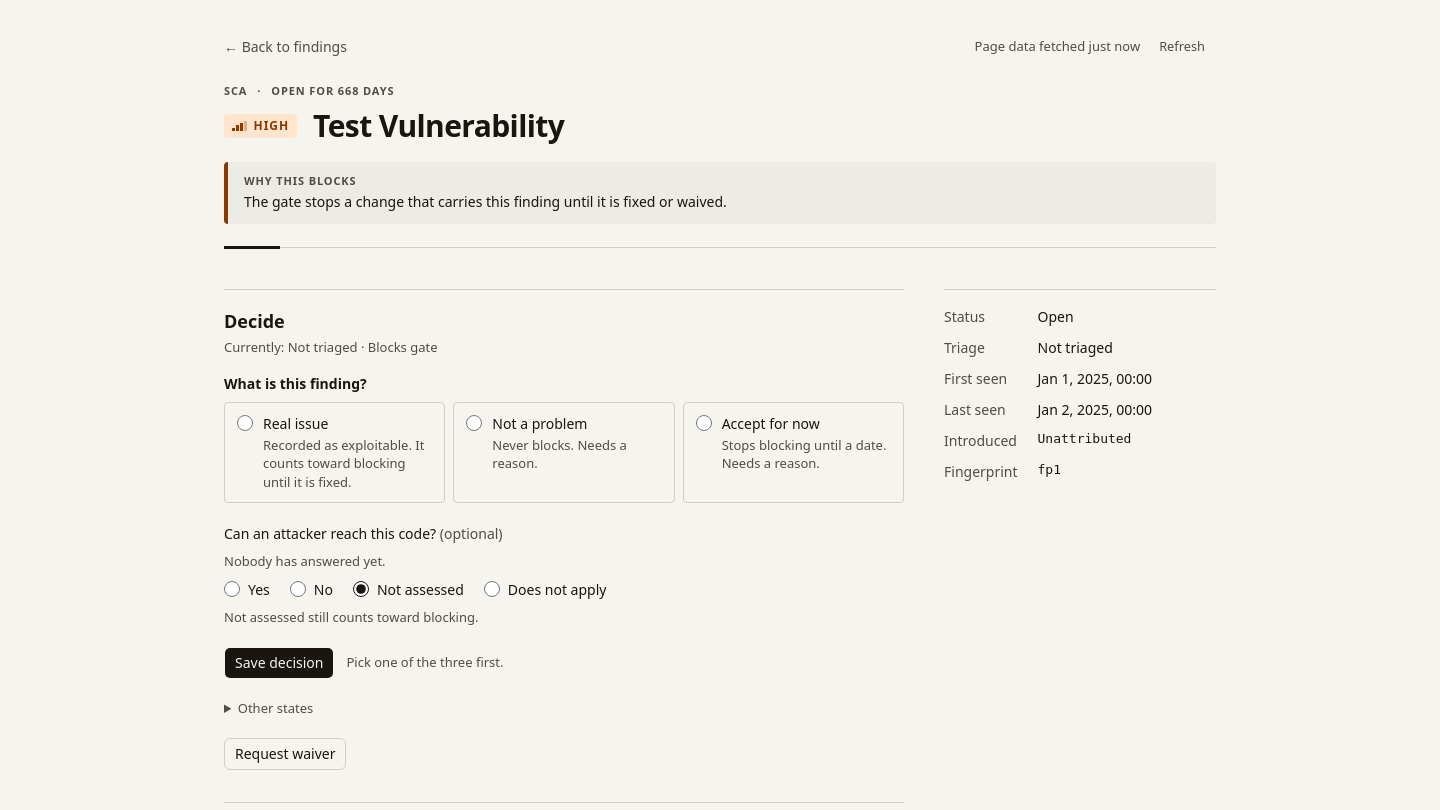
Test: FindingDetail optimistic triage › goes back to the real state, and the old verdict, with an error toast when the server refuses
Check: the heading "Test Vulnerability" is shown, box x1=313 y1=109 x2=564 y2=142
Check: the heading "Why this blocks" is shown, box x1=244 y1=173 x2=356 y2=188
Click the radio button labelled "Real issue" at (245, 423), box x1=237 y1=415 x2=253 y2=431
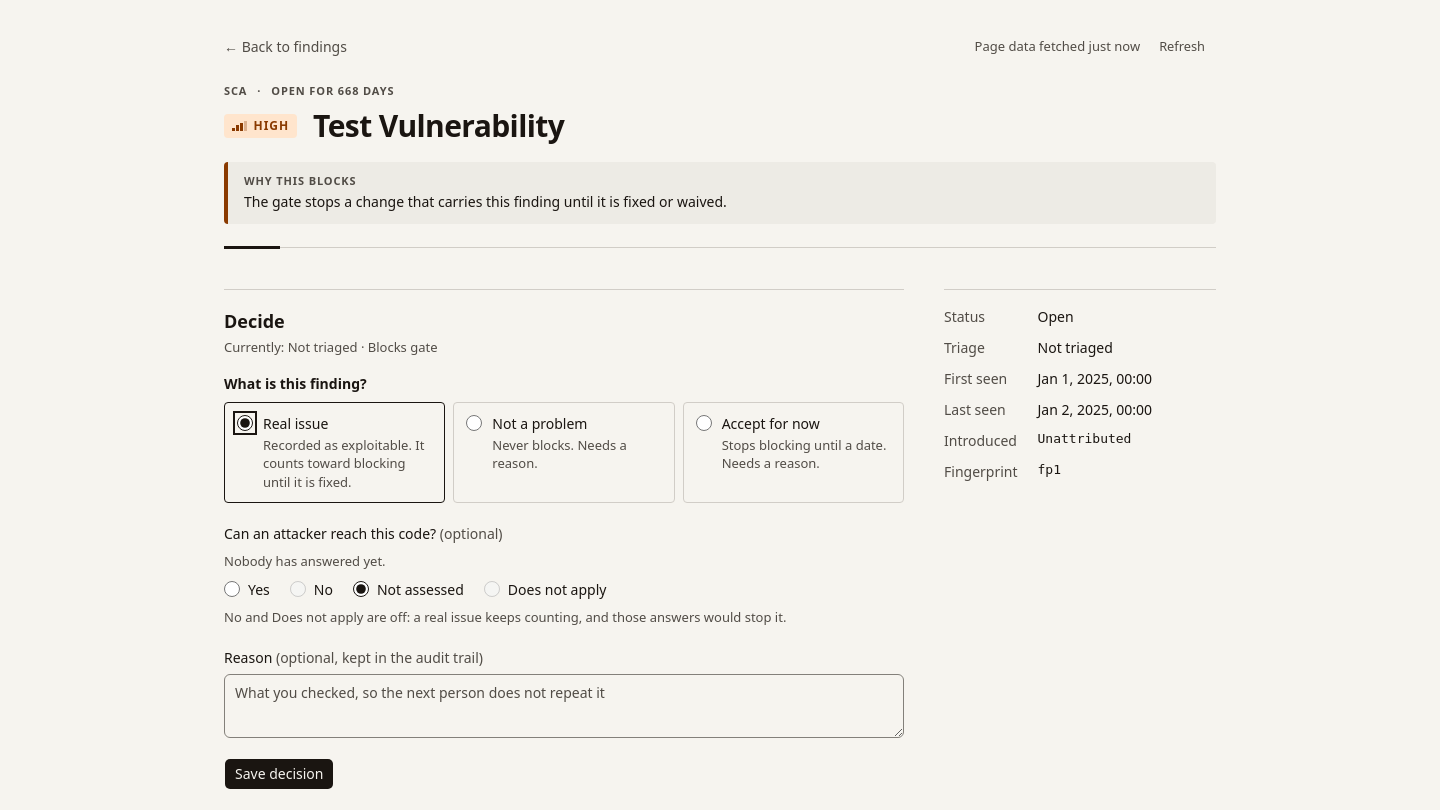
Click the button "Save decision" at (279, 774), box x1=224 y1=758 x2=334 y2=790
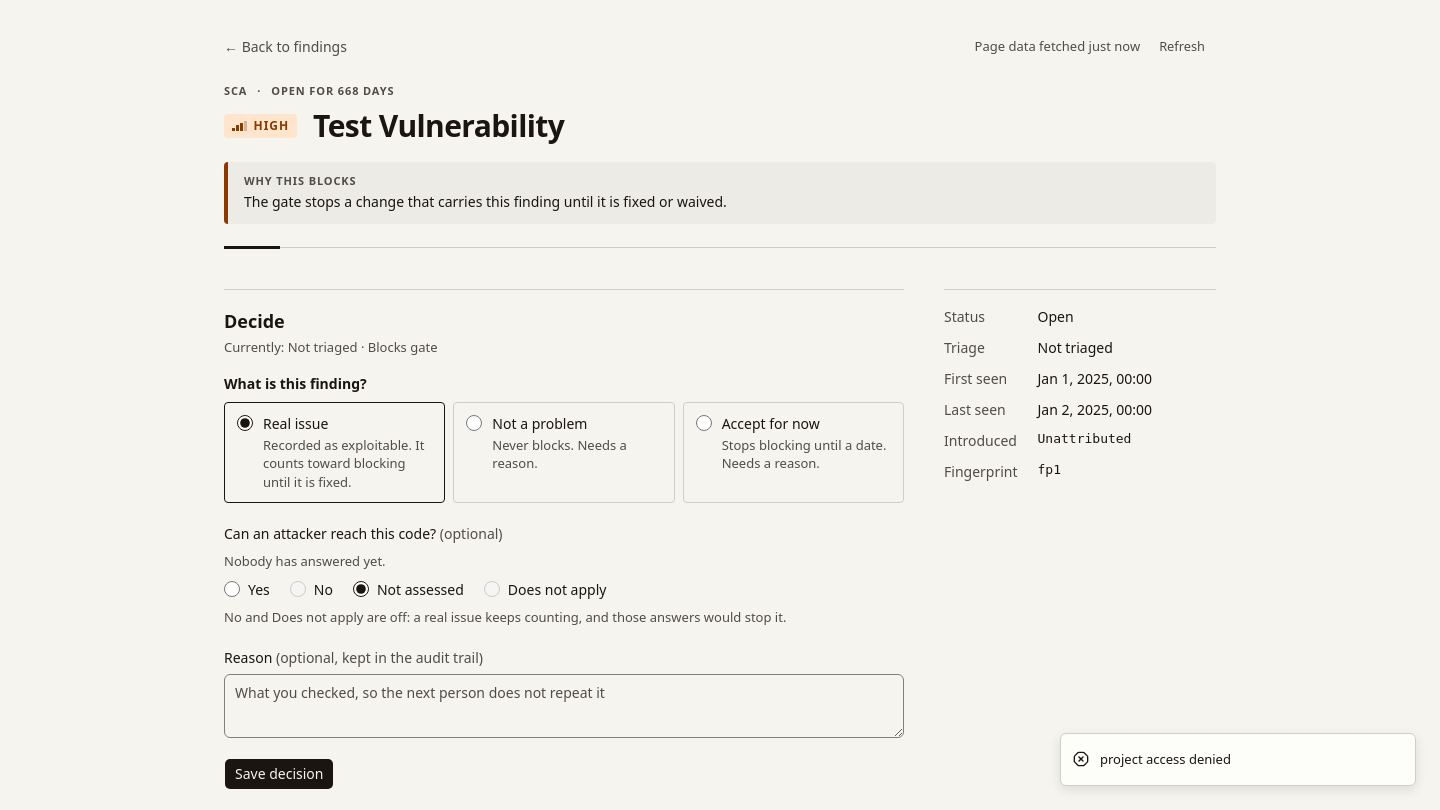
Check: the heading "Why this blocks" is shown, box x1=244 y1=173 x2=356 y2=188
Check: the list item "project access denied" is shown, box x1=1060 y1=732 x2=1416 y2=786
